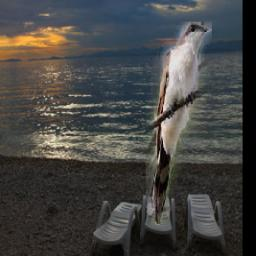Cuckoo: (147, 22, 213, 225)
